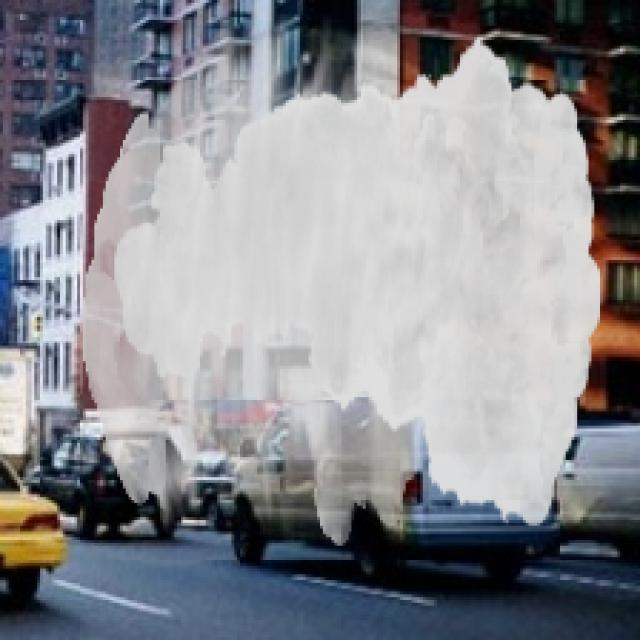Smoke: (83, 14, 603, 546)
